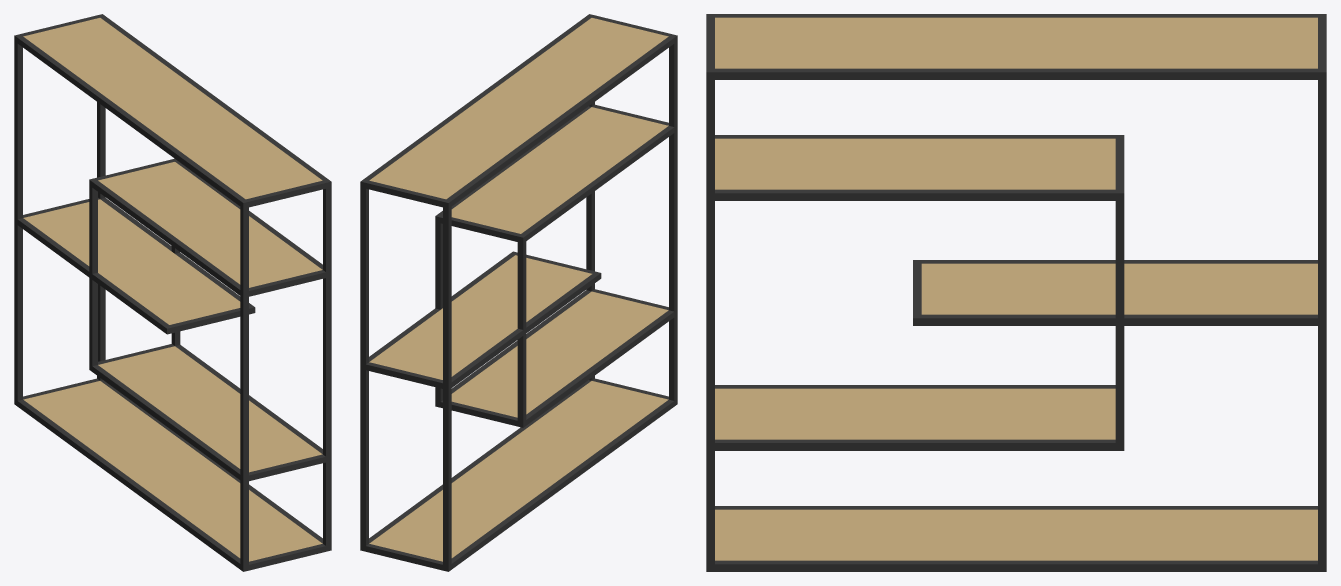
File: shelf.fbx
3 renders of one model, left to right at view 1: azimuth 30°, elevation 25°; view 2: azimuth 150°, elevation 25°; view 3: azimuth 270°, elevation 25°, orthographic. The views are drawn at different scales.
Visible parts, largest first — view 1: Group3, Group2, Group7, Group4, Group6, Group5; view 2: Group3, Group2, Group7, Group4, Group6, Group5; view 3: Group3, Group2, Group7, Group4, Group6, Group5.
Part boxes in pixels (x1,y1,x2,y2): Group3: (14, 14, 331, 571); Group2: (23, 18, 322, 199); Group7: (23, 381, 322, 561); Group4: (98, 162, 322, 287); Group6: (98, 346, 322, 472); Group5: (23, 199, 240, 324); Group3: (360, 14, 677, 571); Group2: (369, 18, 668, 199); Group7: (369, 381, 668, 561); Group4: (451, 107, 668, 233); Group6: (451, 291, 668, 417); Group5: (369, 255, 591, 379); Group3: (706, 14, 1326, 571); Group2: (715, 17, 1317, 68); Group7: (715, 509, 1317, 560); Group4: (715, 138, 1115, 189); Group6: (715, 388, 1115, 439); Group5: (921, 263, 1317, 314).
Bounding box in the file's own units: 225 × 898 × 1011.
